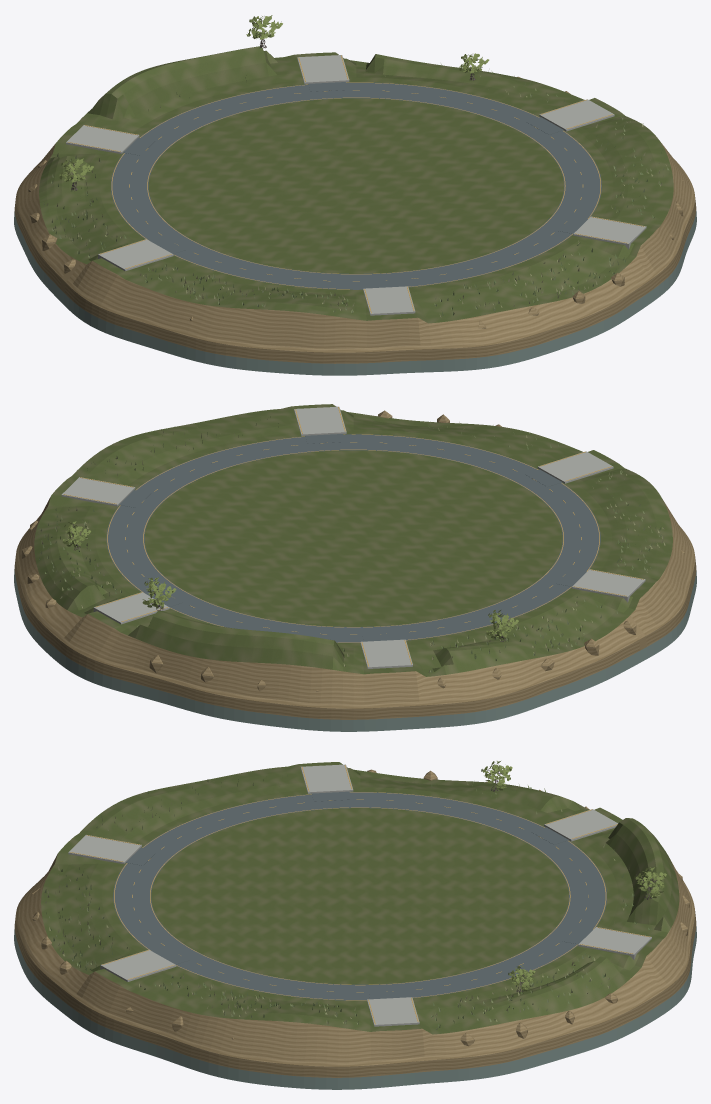
File: parcel-a.60b73e1b6956.glb
3 views of the same model, one above another, from view 1: azimuth 30°, elevation 25°; view 2: azimuth 150°, elevation 25°; view 3: azimuth 270°, elevation 25° (orthographic).
Visible parts, largest first — view 1: parcel_closed_manifold_core, ring_road_surface, retained_palette_coastal_salt_grass, pad_closed_abutment_E150, pad_closed_abutment_E270, pad_closed_abutment_E330, pad_closed_abutment_E90, pad_closed_abutment_E210, pad_closed_abutment_E30, ring_road_ochre_edge_27.64, ring_road_ochre_edge_32.36; view 2: parcel_closed_manifold_core, ring_road_surface, retained_palette_coastal_salt_grass, pad_closed_abutment_E210, pad_closed_abutment_E150, pad_closed_abutment_E330, pad_closed_abutment_E90, pad_closed_abutment_E270, pad_closed_abutment_E30, ring_road_ochre_edge_27.64, ring_road_ochre_edge_32.36, retained_cc0_tree_1_retained_twisted_tree_0.002 (+1 smaller); view 3: parcel_closed_manifold_core, ring_road_surface, retained_palette_coastal_salt_grass, pad_closed_abutment_E270, pad_closed_abutment_E30, pad_closed_abutment_E90, pad_closed_abutment_E210, pad_closed_abutment_E330, pad_closed_abutment_E150, ring_road_ochre_edge_27.64, ring_road_ochre_edge_32.36, retained_cc0_tree_1_retained_twisted_tree_0.002.
Boxes of the visible parts, <box> form: parcel_closed_manifold_core: <box>14,46,696,375</box>; ring_road_surface: <box>111,82,601,289</box>; retained_palette_coastal_salt_grass: <box>43,64,669,317</box>; pad_closed_abutment_E150: <box>98,239,173,271</box>; pad_closed_abutment_E270: <box>573,216,646,249</box>; pad_closed_abutment_E330: <box>539,99,614,131</box>; pad_closed_abutment_E90: <box>66,125,139,153</box>; pad_closed_abutment_E210: <box>363,286,415,315</box>; pad_closed_abutment_E30: <box>297,55,349,84</box>; ring_road_ochre_edge_27.64: <box>147,97,565,274</box>; ring_road_ochre_edge_32.36: <box>111,82,600,289</box>; parcel_closed_manifold_core: <box>14,404,696,731</box>; ring_road_surface: <box>106,434,600,642</box>; retained_palette_coastal_salt_grass: <box>38,416,665,672</box>; pad_closed_abutment_E210: <box>537,451,613,483</box>; pad_closed_abutment_E150: <box>572,569,645,602</box>; pad_closed_abutment_E330: <box>61,477,135,506</box>; pad_closed_abutment_E90: <box>360,639,412,668</box>; pad_closed_abutment_E270: <box>294,406,346,436</box>; pad_closed_abutment_E30: <box>93,592,169,624</box>; ring_road_ochre_edge_27.64: <box>143,449,563,627</box>; ring_road_ochre_edge_32.36: <box>107,434,599,642</box>; retained_cc0_tree_1_retained_twisted_tree_0.002: <box>142,577,176,608</box>; parcel_closed_manifold_core: <box>14,762,696,1089</box>; ring_road_surface: <box>113,792,606,1000</box>; retained_palette_coastal_salt_grass: <box>44,775,661,1029</box>; pad_closed_abutment_E270: <box>100,949,176,981</box>; pad_closed_abutment_E30: <box>578,927,651,959</box>; pad_closed_abutment_E90: <box>544,809,617,841</box>; pad_closed_abutment_E210: <box>68,835,141,864</box>; pad_closed_abutment_E330: <box>367,997,419,1026</box>; pad_closed_abutment_E150: <box>300,764,353,793</box>; ring_road_ochre_edge_27.64: <box>150,807,570,985</box>; ring_road_ochre_edge_32.36: <box>114,792,606,1000</box>; retained_cc0_tree_1_retained_twisted_tree_0.002: <box>634,867,666,898</box>.
Size of the model in its own units: 90.25 by 14.73 by 89.89.
11 materials, 4 textured.
